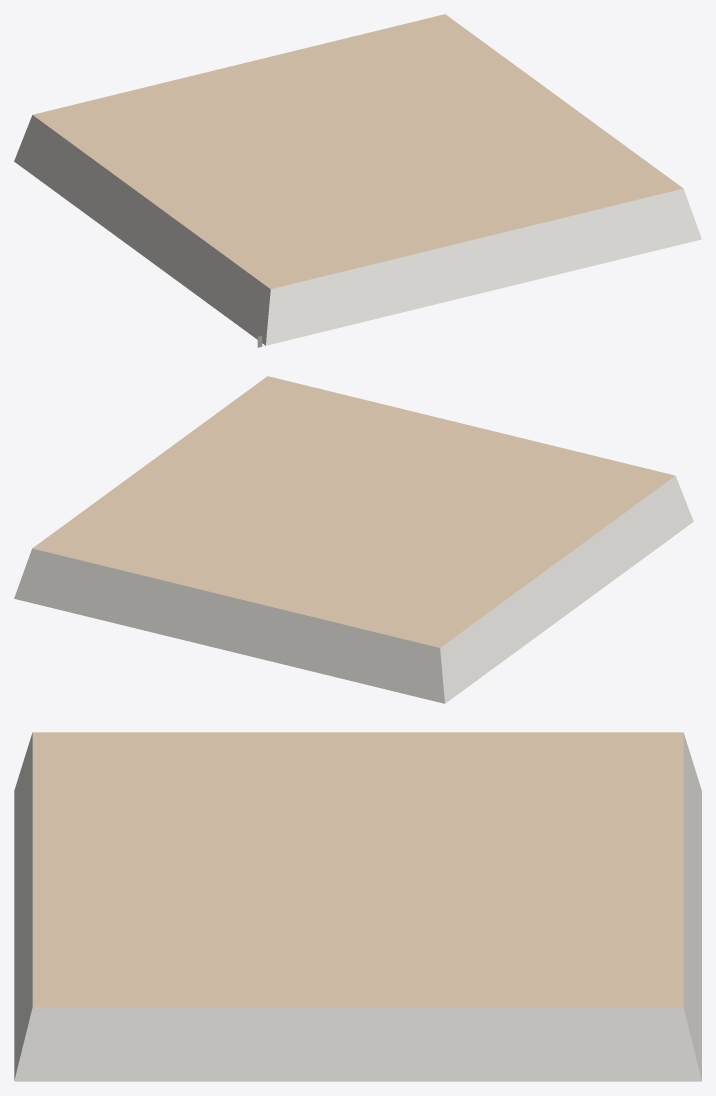
The model's file is Raneferef_pyramid.glb.
The picture shows the model from 3 angles, top to bottom: view 1: azimuth 30°, elevation 25°; view 2: azimuth 150°, elevation 25°; view 3: azimuth 270°, elevation 25°; orthographic projection. The views are drawn at different scales.
Visible parts, largest first — view 1: Mesh1 Model; view 2: Mesh1 Model; view 3: Mesh1 Model.
Part boxes in pixels (x1,y1,x2,y2): Mesh1 Model: [14, 14, 701, 345]; Mesh1 Model: [14, 376, 693, 703]; Mesh1 Model: [14, 732, 701, 1081].
Bounding box in the file's own units: 66.73 × 7 × 65.52.
